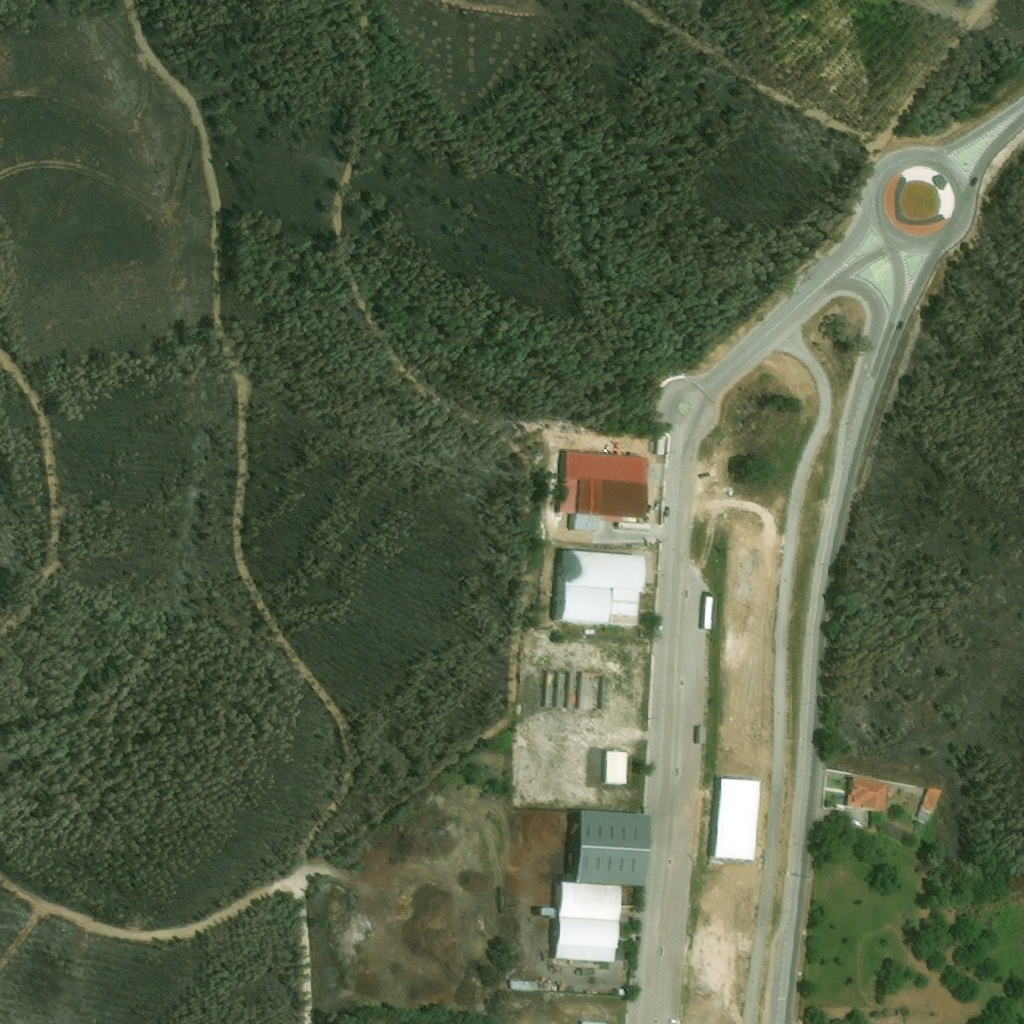0 no-damage: (548, 547, 649, 628), (553, 449, 649, 534), (537, 878, 623, 964), (842, 774, 896, 812), (600, 748, 629, 786), (917, 787, 943, 817), (510, 979, 540, 991)
